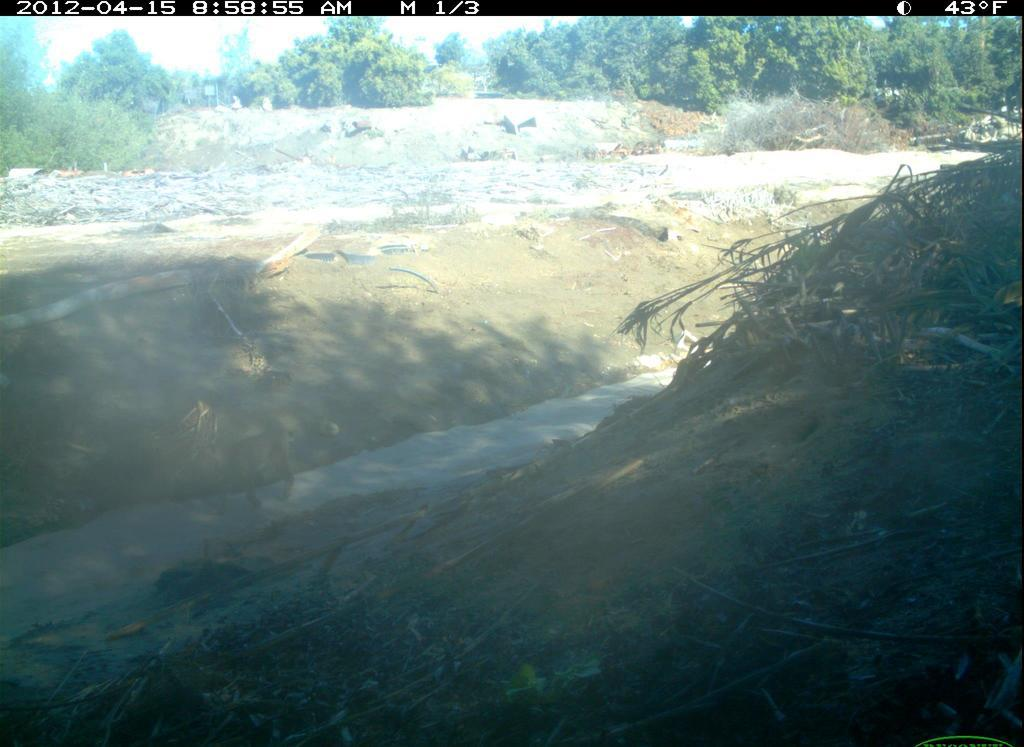bobcat: (172, 400, 319, 529)
